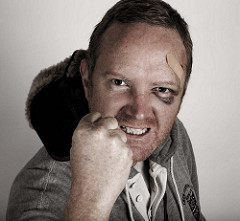fist: (67, 114, 138, 194)
